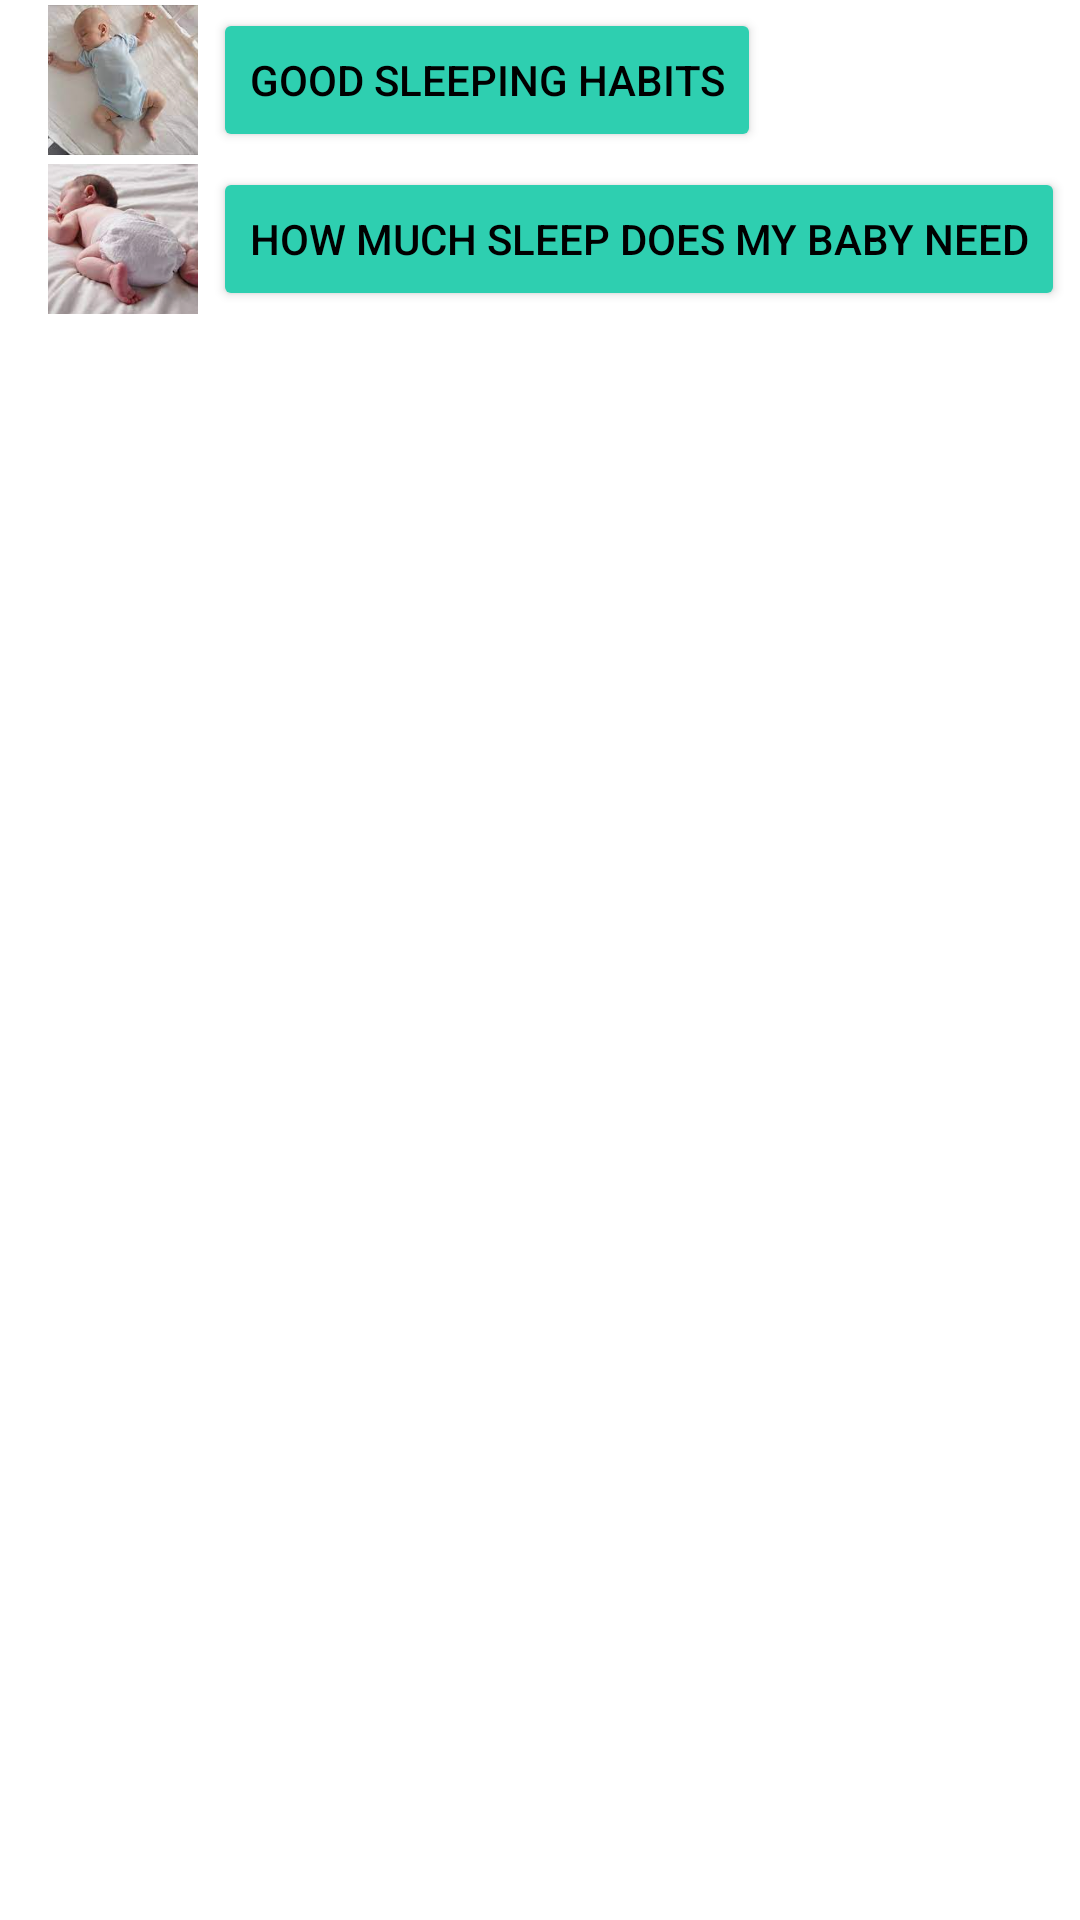

Where icons sit on this 1080 x 1920 app screen, as (x1, y1, x2, y2):
babysleep: (48, 5, 198, 155), (48, 164, 198, 314)
